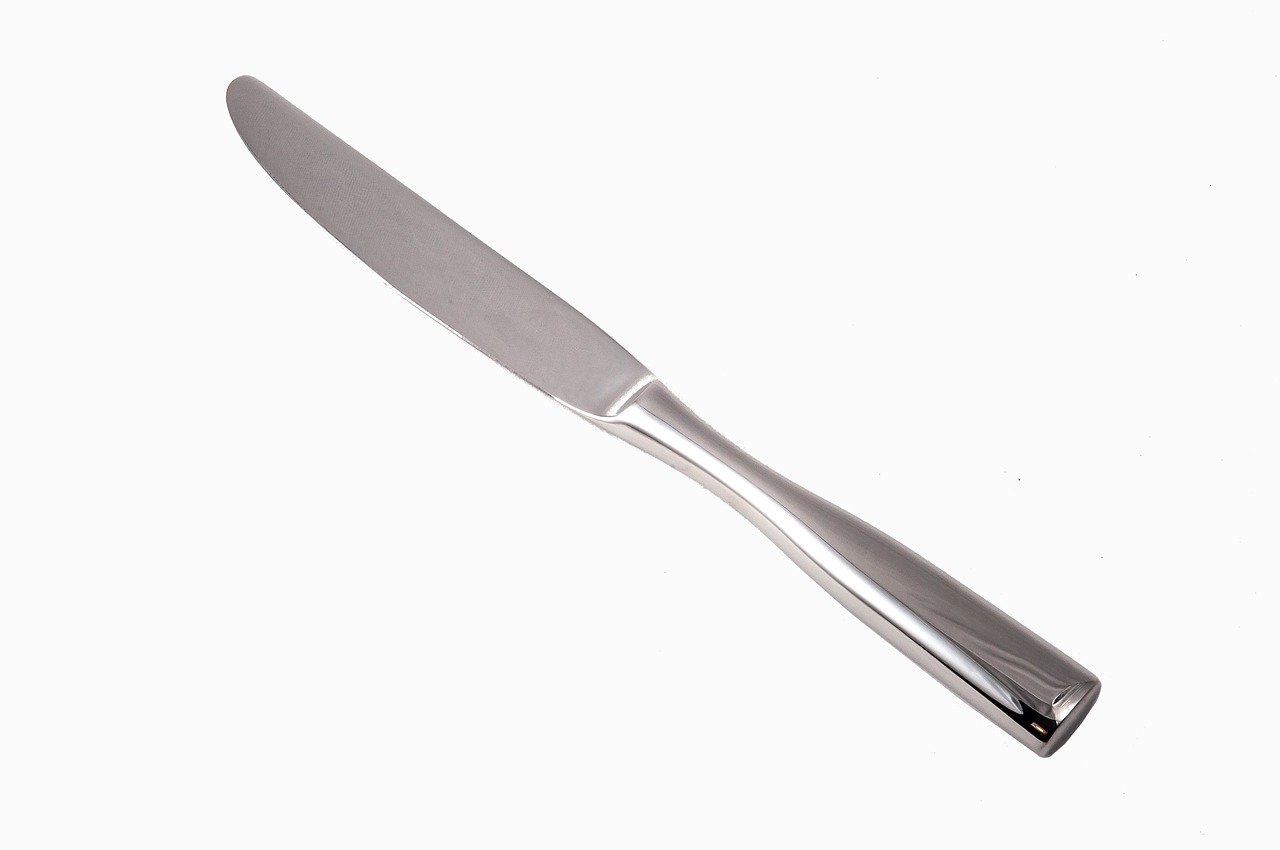knife: (206, 63, 1108, 758)
